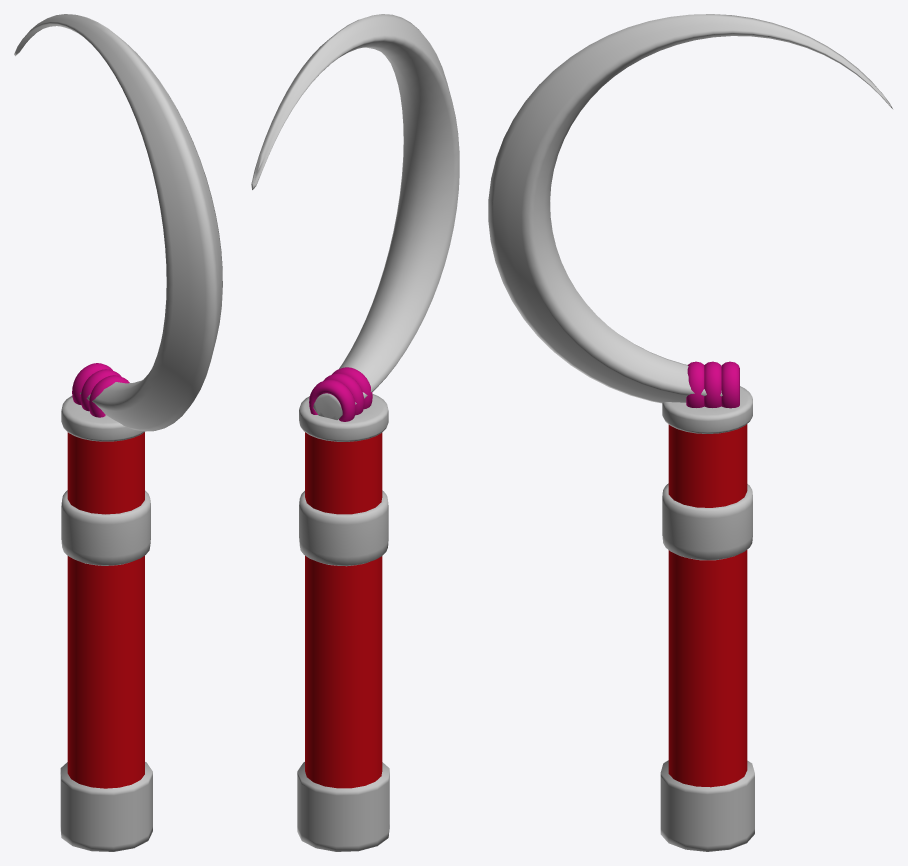
File: falçModel.fbx
The picture shows the model from 3 angles, left to right: view 1: azimuth 30°, elevation 25°; view 2: azimuth 150°, elevation 25°; view 3: azimuth 270°, elevation 25°; orthographic projection.
Parts seen in each view (by area): view 1: Torus.004 (×4); view 2: Torus.004 (×4); view 3: Torus.004 (×4).
Boxes of the visible parts, bbox=[...] form: Torus.004 (×4): bbox=[14, 14, 222, 851]; Torus.004 (×4): bbox=[251, 14, 459, 851]; Torus.004 (×4): bbox=[488, 14, 893, 851].
Size of the model in its own units: 121 by 1169 by 525.
